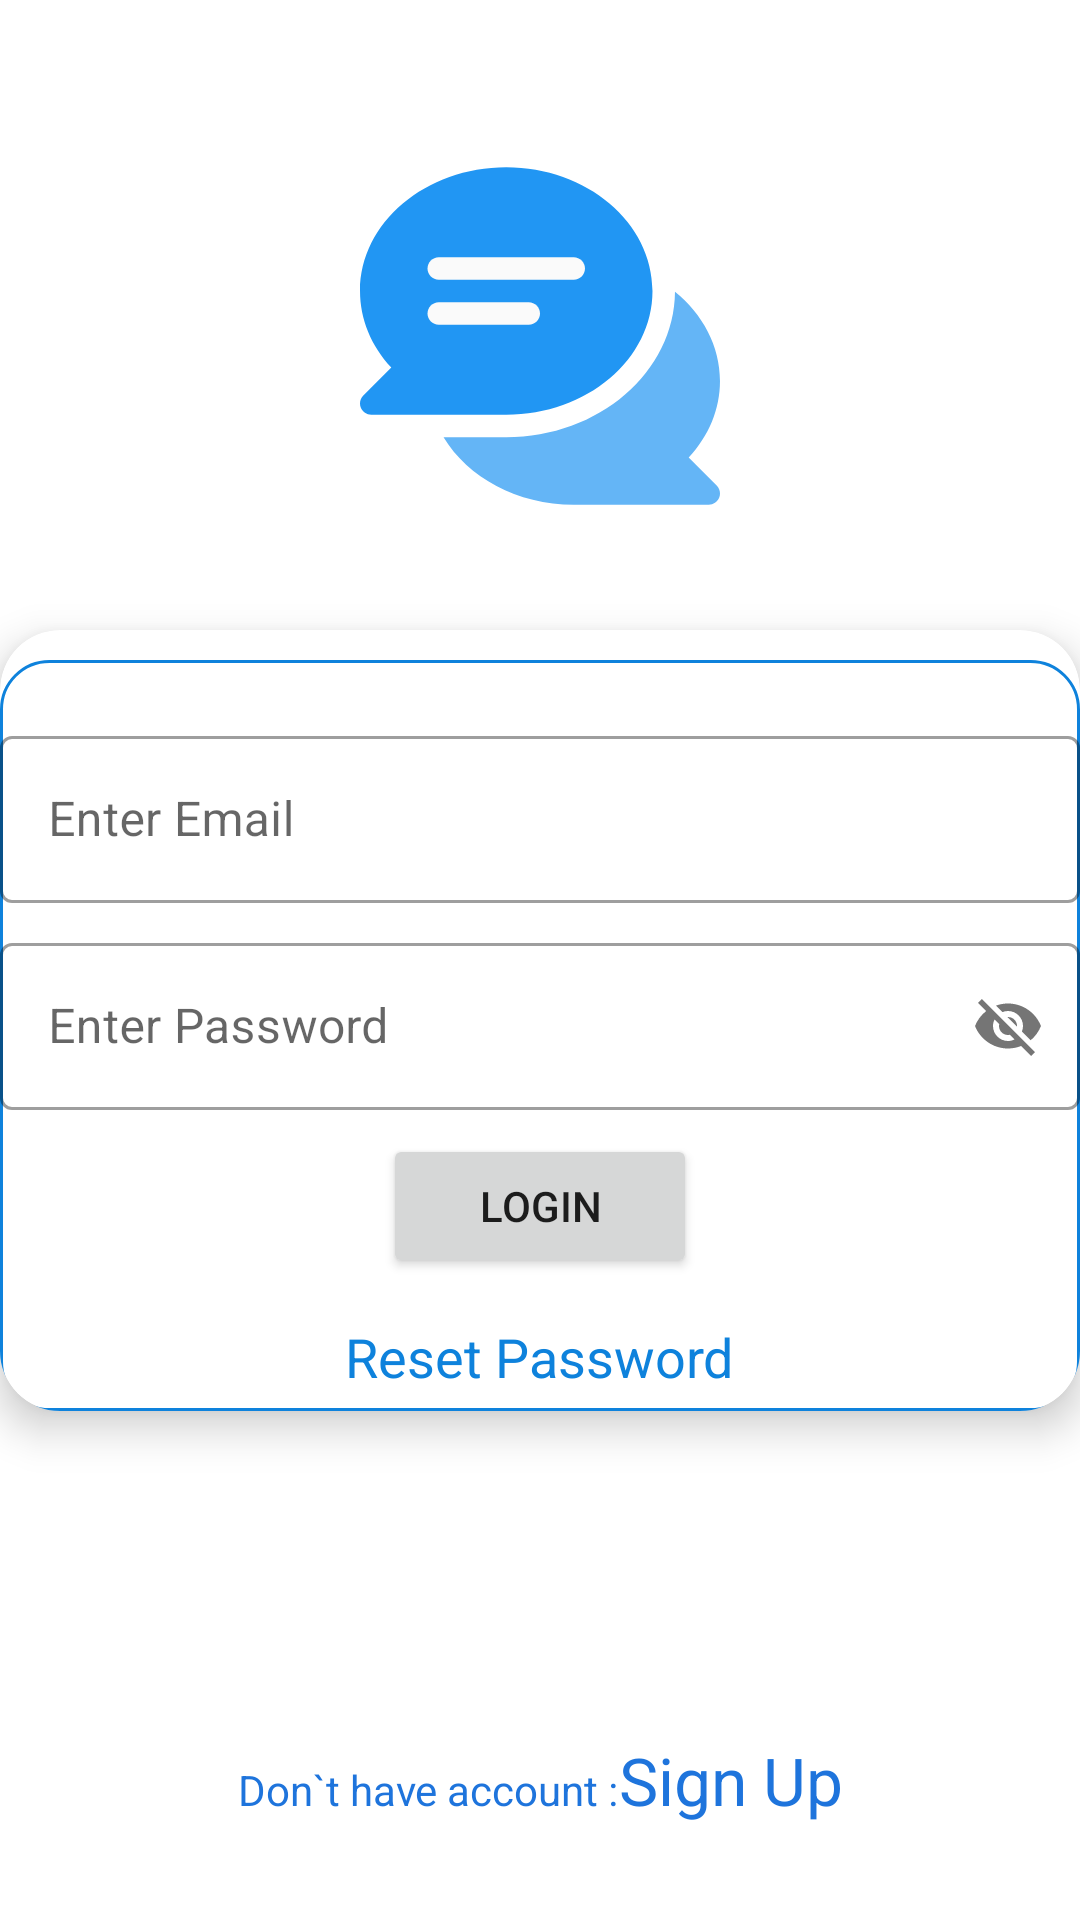

Named icons in this screenshot (1080px x 1920px) and their bounding boxes, box(x1, y1, x2, y2):
chat: box(360, 167, 720, 505)
